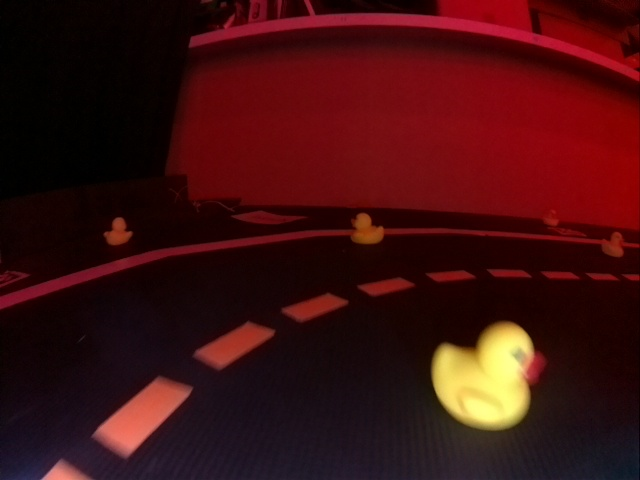Duckie: (432, 324, 545, 430), (350, 212, 384, 245), (104, 219, 132, 246), (602, 232, 624, 257), (543, 211, 559, 226)
